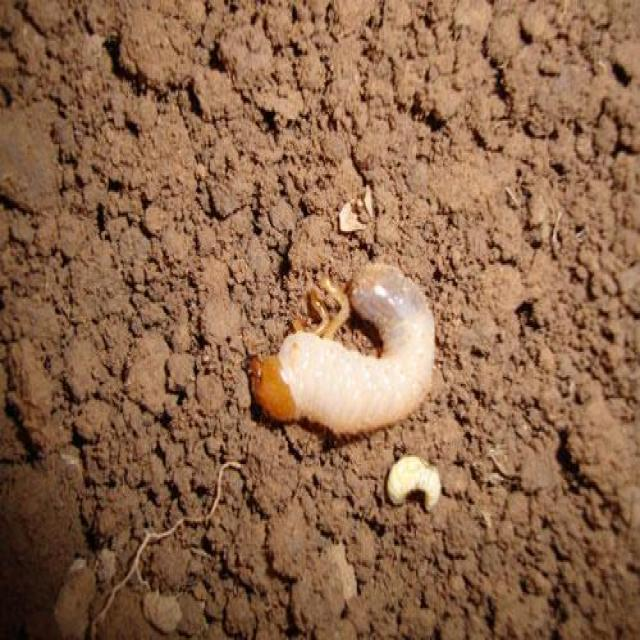Grub-Adult-: (227, 239, 476, 453), (376, 440, 456, 535)
